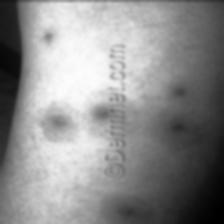Toxin: (109, 200, 139, 218), (46, 108, 72, 128), (164, 117, 184, 135), (92, 104, 107, 120), (172, 85, 186, 97), (42, 31, 54, 42)
